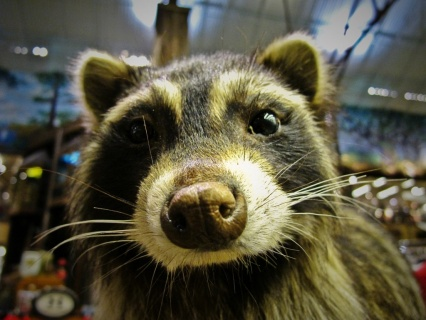Raccoon: (0, 17, 426, 320)
